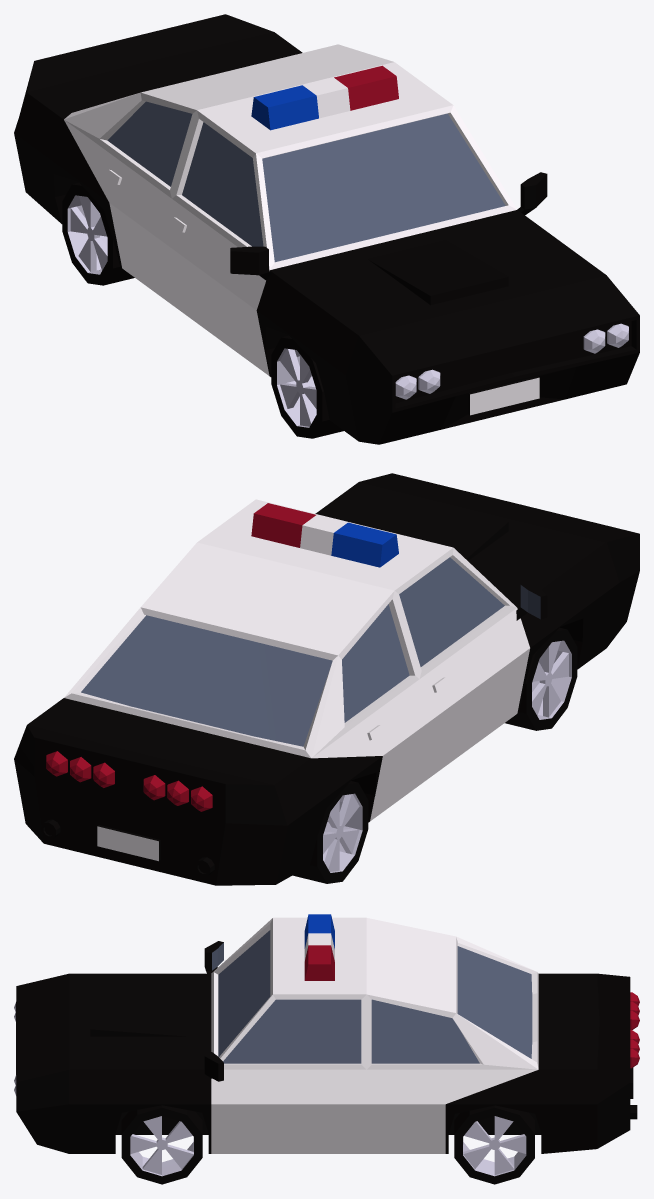
Rendered from mod-viatura-muscle.gltf.
3 renders of one model, top to bottom at view 1: azimuth 30°, elevation 25°; view 2: azimuth 150°, elevation 25°; view 3: azimuth 270°, elevation 25°, orthographic. The views are drawn at different scales.
Parts seen in each view (by area): view 1: Police Muscle, Police Muscle wheel front left; view 2: Police Muscle, Police Muscle wheel front left; view 3: Police Muscle, Police Muscle wheel front left.
Boxes of the visible parts, <box> form: Police Muscle: <box>14,14,639,444</box>; Police Muscle wheel front left: <box>62,182,343,438</box>; Police Muscle: <box>14,473,639,885</box>; Police Muscle wheel front left: <box>292,628,577,883</box>; Police Muscle: <box>14,914,639,1153</box>; Police Muscle wheel front left: <box>121,1105,534,1184</box>.
Bounding box in the file's own units: 2.48 × 1.84 × 5.33.
